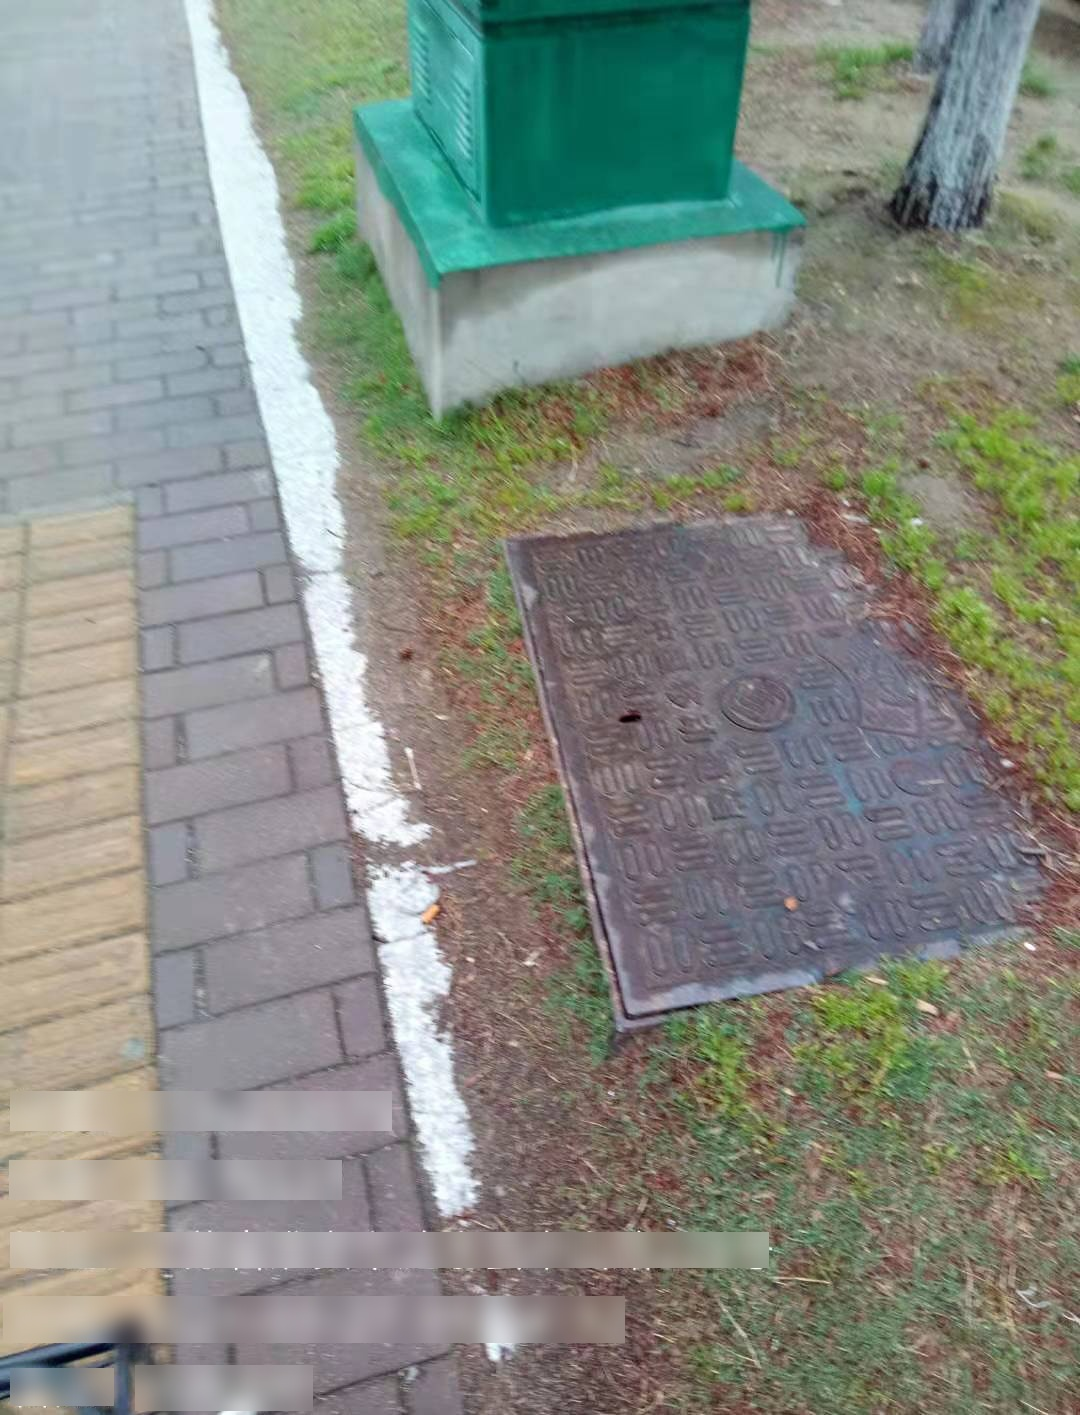good: (500, 516, 1052, 1028)
